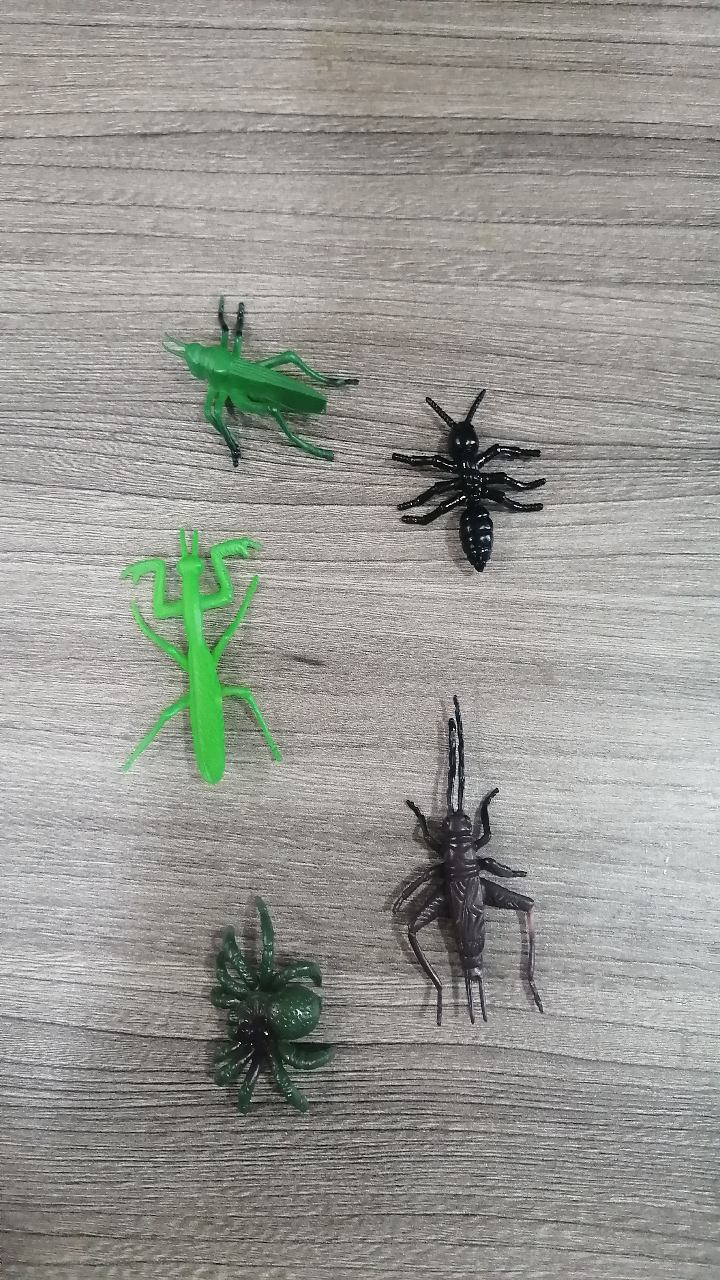intruso: (360, 666, 574, 1039), (131, 862, 364, 1137), (112, 497, 306, 812), (143, 285, 364, 486), (375, 357, 555, 597)
